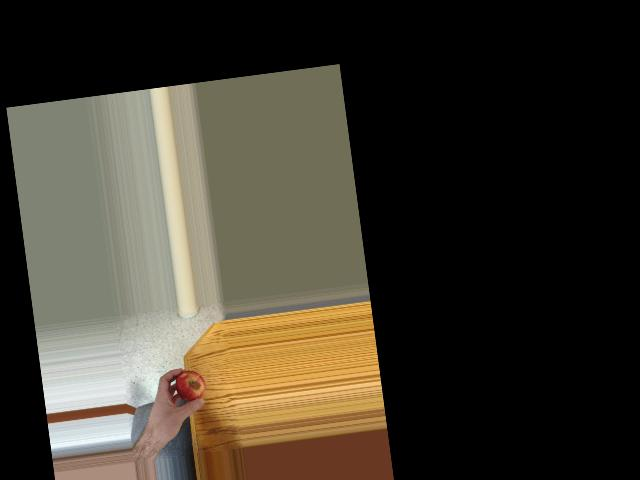apple: (173, 367, 207, 406)
